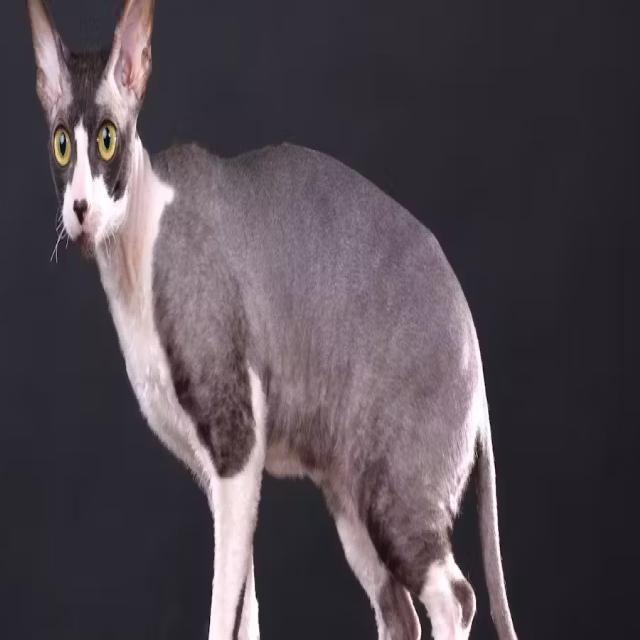Cornish Rex: (19, 0, 538, 640)
